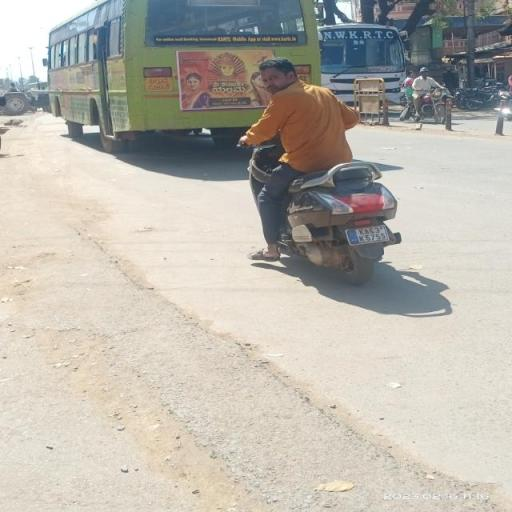bike: (230, 54, 408, 288)
numberplate: (342, 218, 393, 250)
withouthelmet: (256, 54, 300, 92)
